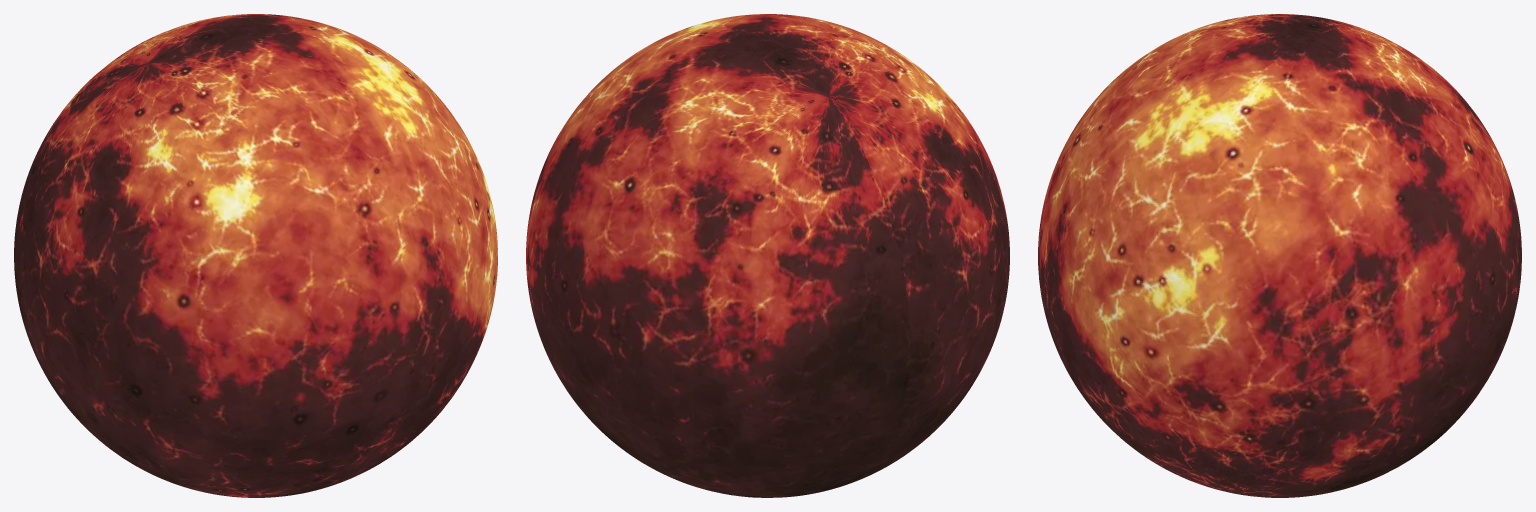
The model's file is volcano.glb.
The picture shows the model from 3 angles, left to right: view 1: azimuth 30°, elevation 25°; view 2: azimuth 150°, elevation 25°; view 3: azimuth 270°, elevation 25°; orthographic projection.
Visible parts, largest first — view 1: Icosphere_Material_0; view 2: Icosphere_Material_0; view 3: Icosphere_Material_0.
Boxes of the visible parts, x1=… form: Icosphere_Material_0: x1=14, y1=14, x2=497, y2=497; Icosphere_Material_0: x1=526, y1=14, x2=1009, y2=497; Icosphere_Material_0: x1=1038, y1=14, x2=1521, y2=497.
Bounding box in the file's own units: 1.92 × 1.92 × 1.92.
Materials: 1 (1 with a texture image).
